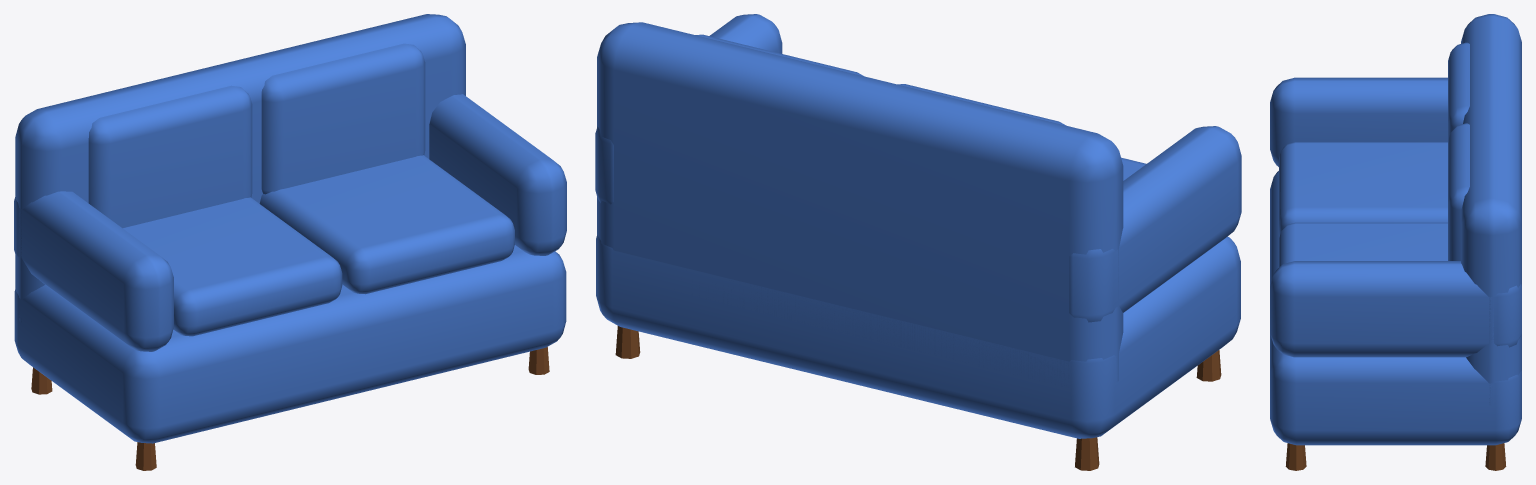
Rendered from Sofa.fbx.
3 renders of one model, left to right at view 1: azimuth 30°, elevation 25°; view 2: azimuth 150°, elevation 25°; view 3: azimuth 270°, elevation 25°, orthographic. The views are drawn at different scales.
Visible parts, largest first — view 1: Sofa; view 2: Sofa; view 3: Sofa.
Part boxes in pixels (bbox=[...]): Sofa: bbox=[14, 14, 566, 470]; Sofa: bbox=[595, 14, 1241, 470]; Sofa: bbox=[1270, 14, 1521, 470].
Bounding box in the file's own units: 5.6 × 3.4 × 2.9.
Materials: 1 (1 with a texture image).
